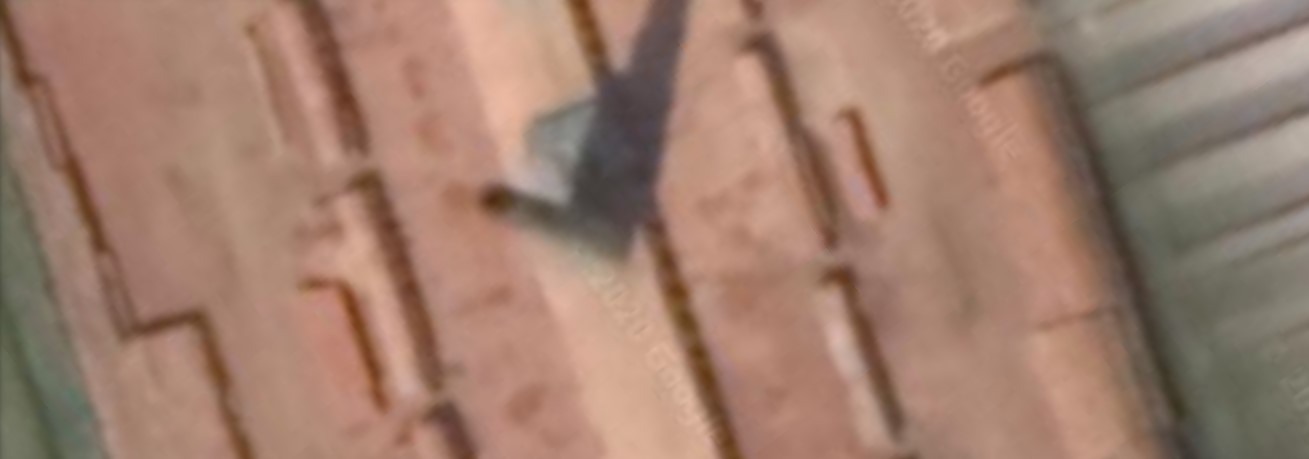kiln: (321, 1, 796, 459)
